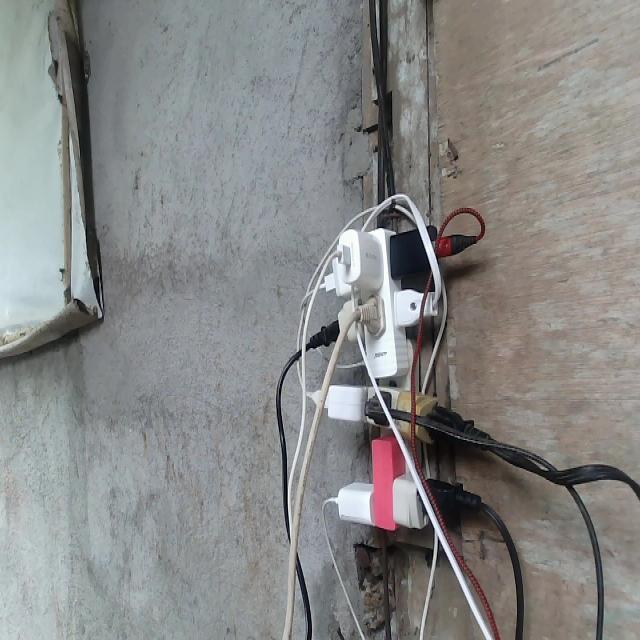-: (309, 222, 474, 534)
